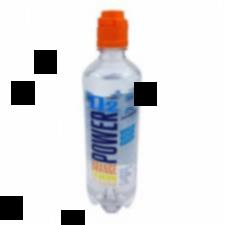powerO2_orange: (78, 2, 148, 217)
